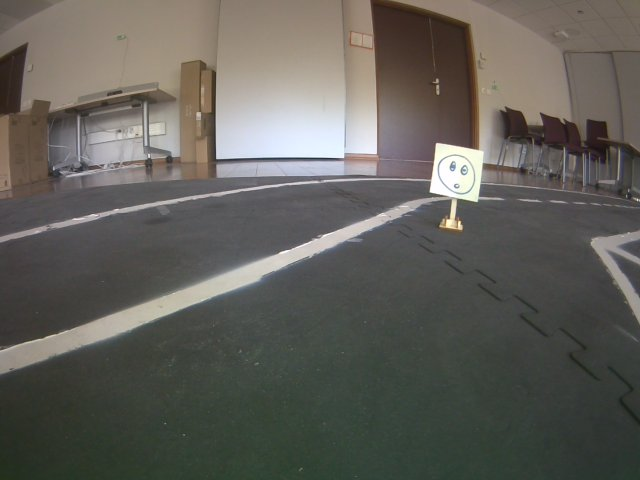Smiley: (429, 142, 485, 204)
